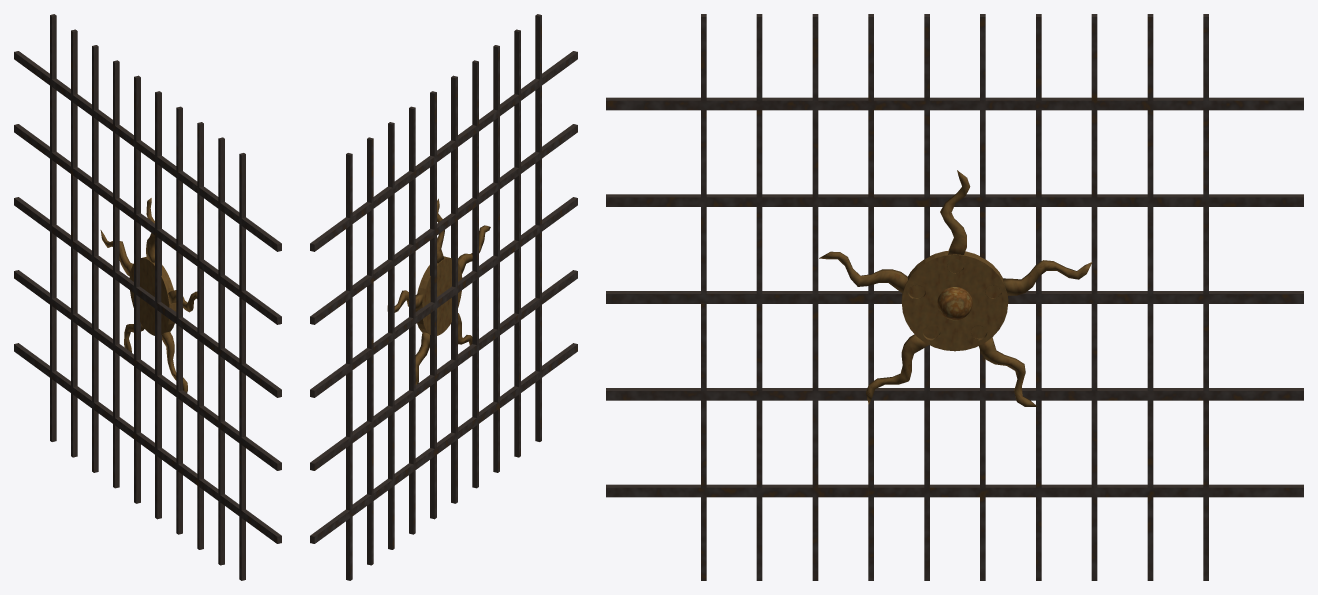
The model's file is Door.fbx.
3 views of the same model, side by side, from view 1: azimuth 30°, elevation 25°; view 2: azimuth 150°, elevation 25°; view 3: azimuth 270°, elevation 25° (orthographic). The views are drawn at different scales.
Visible parts, largest first — view 1: Cube.006, Cube.002; view 2: Cube.006, Cube.002; view 3: Cube.006, Cube.002, Sphere.
Part boxes in pixels (x1,y1,x2,y2): Cube.006: (14, 14, 281, 580); Cube.002: (100, 198, 197, 392); Cube.006: (310, 14, 577, 580); Cube.002: (387, 198, 490, 384); Cube.006: (606, 14, 1303, 580); Cube.002: (819, 170, 1092, 406); Sphere: (937, 287, 972, 320).
Size of the model in its own units: 189 by 3508 by 3934.
3 materials, 3 textured.
